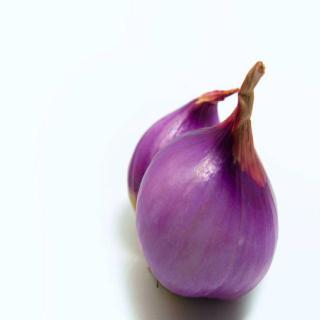Bawang Merah: (135, 60, 281, 304)
